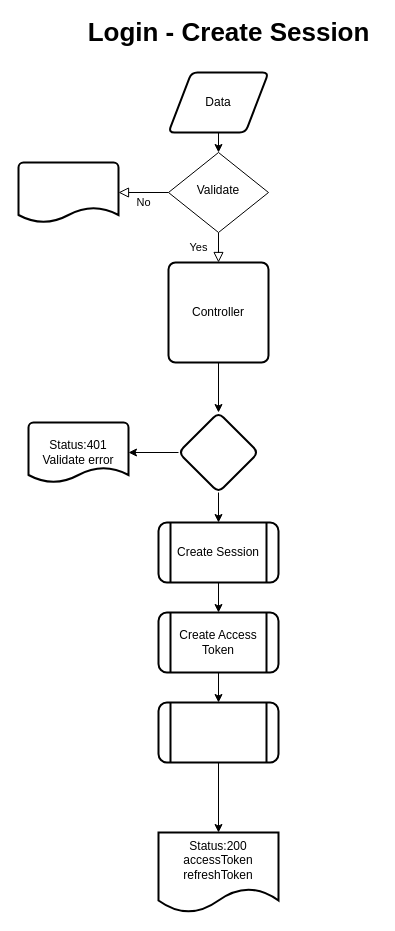
This 395x931 diagram has some shape labels left out. The centre of each missing label's shape, as x and y in pixels:
"Create Refresh Token" belongs at (218,732).
"Status:400 Validate error" belongs at (68,192).
"Validate Password" belongs at (218,452).
